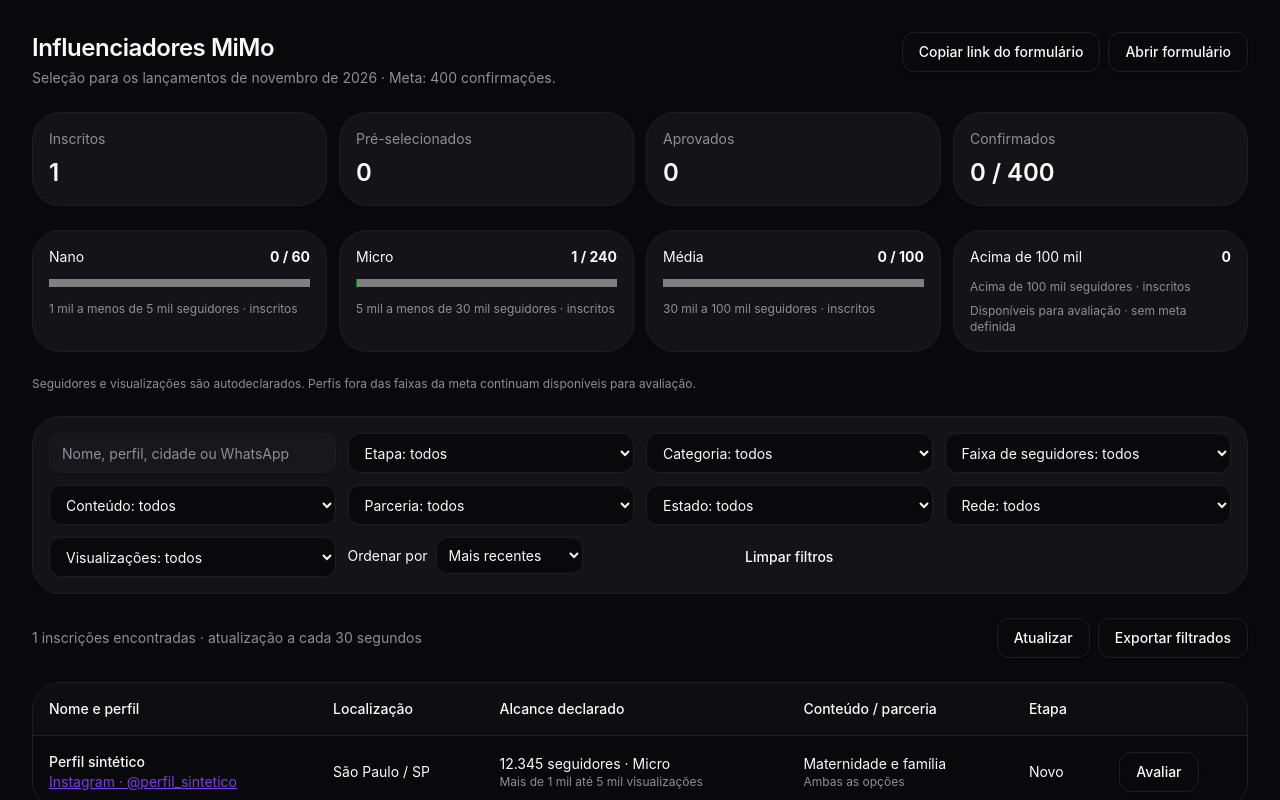
Scenario: exibe todos os dados recebidos e só exclui após confirmação, atualizando a lista
The width and height of the screenshot is (1280, 800).
Expected: the text "1 / 240" is shown, [571, 247, 617, 267]
Expected: the progress indicator named "Meta Micro" holds "1", [356, 279, 617, 287]
Click the button "Avaliar": click(1159, 772) [1119, 752, 1198, 792]
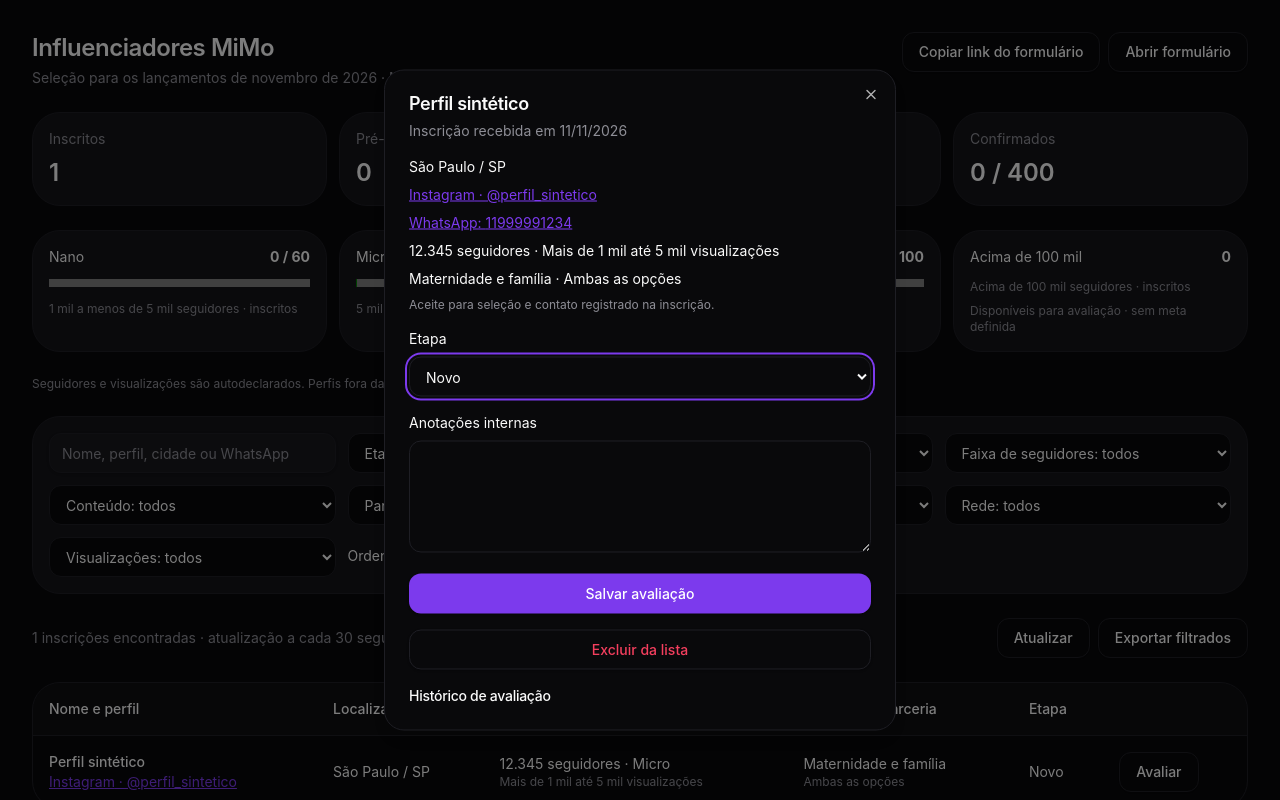
Now the heading "Perfil sintético" is shown, box [409, 92, 529, 114]
Now the text "São Paulo / SP" is shown, box [409, 158, 506, 174]
Now the text "12.345 seguidores · Mais de 1 mil até 5 mil visualizações" is shown, box [409, 242, 779, 258]
Click the button "Excluir da lista": click(640, 650) [409, 630, 871, 670]
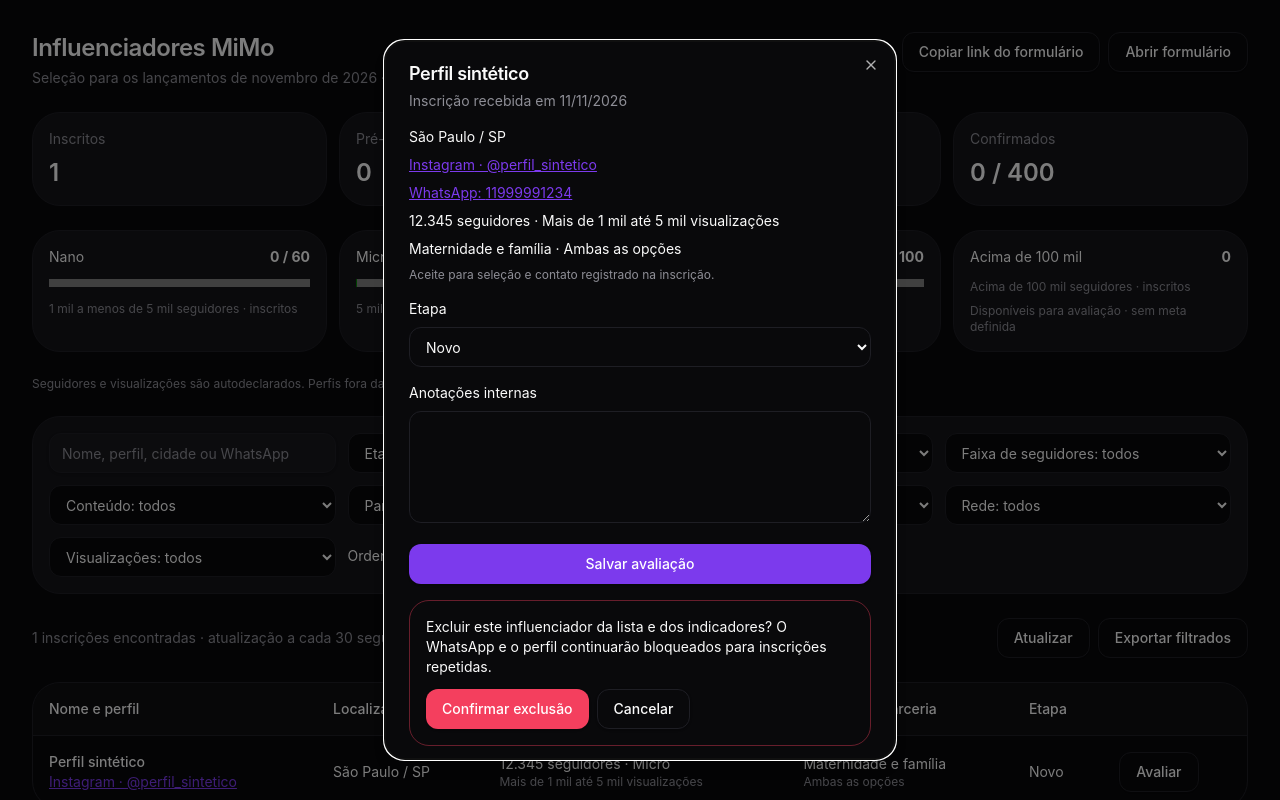
Click the button "Confirmar exclusão": click(507, 709) [426, 689, 588, 729]
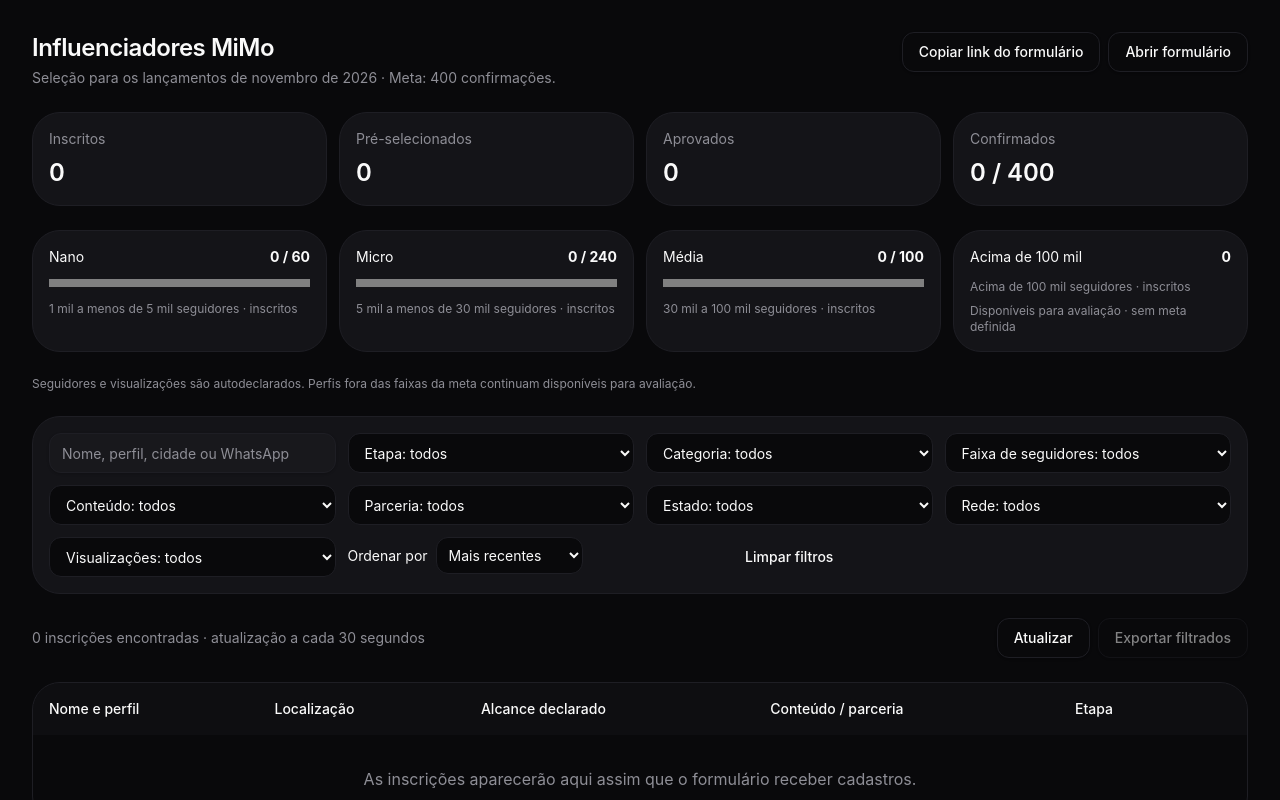
Now the text "As inscrições aparecerão aqui assim que o formulário receber cadastros." is shown, box [364, 769, 916, 789]
Now the button "Avaliar" is gone
Now the text "0 / 240" is shown, box [568, 247, 617, 267]
